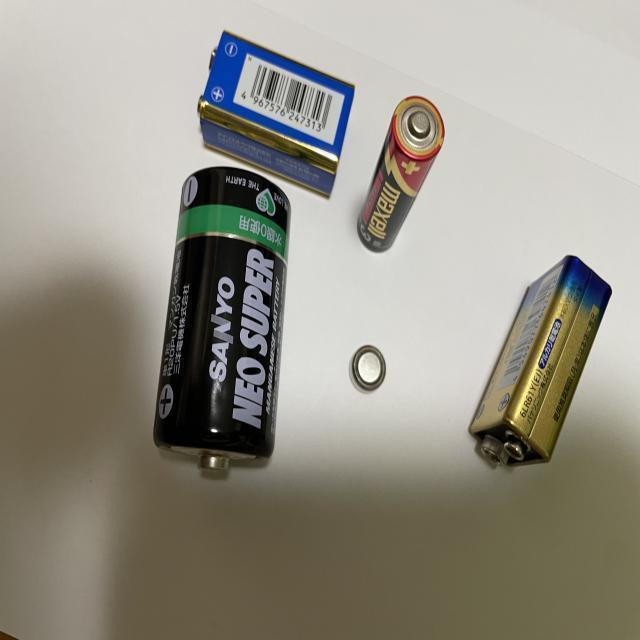9V: (471, 256, 613, 466), (197, 28, 354, 203)
